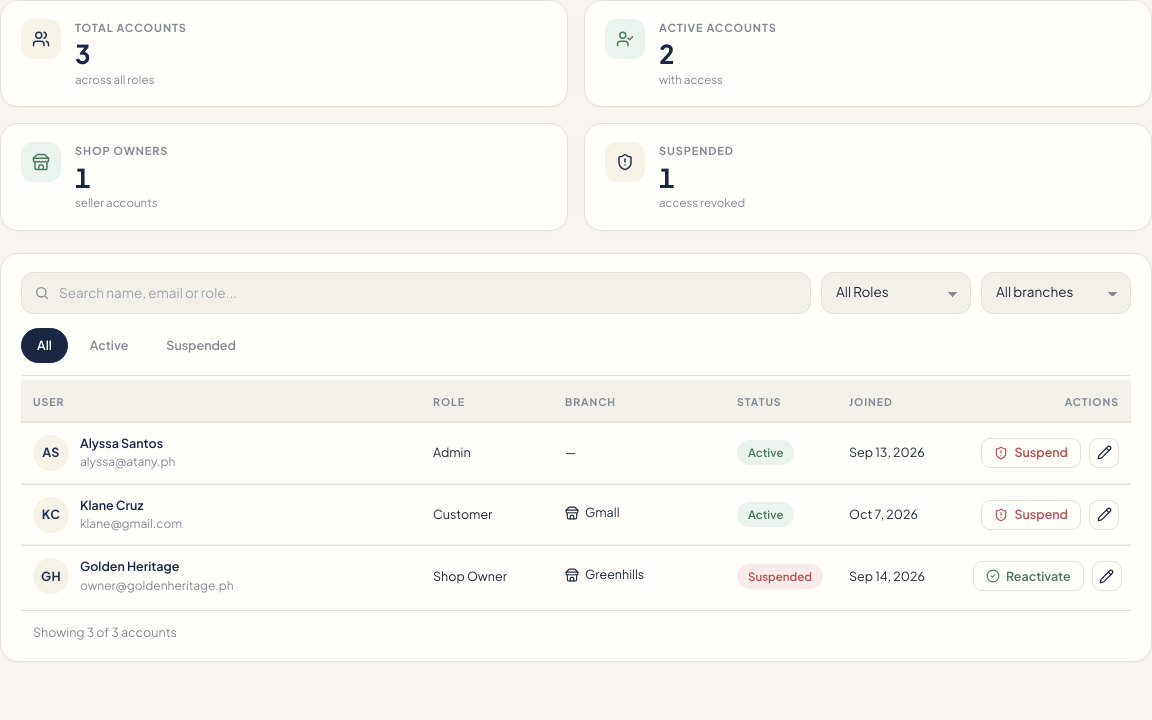
Test: search, role filter, branch filter and status tabs › empty filter result shows a no-match state, not fake rows
Expected: the text "Klane Cruz" is shown, [80,496,143,512]
Type "zzzzz" into the field labelled "Search name, email or role..." at x=416, y=293, box [21,272,811,314]
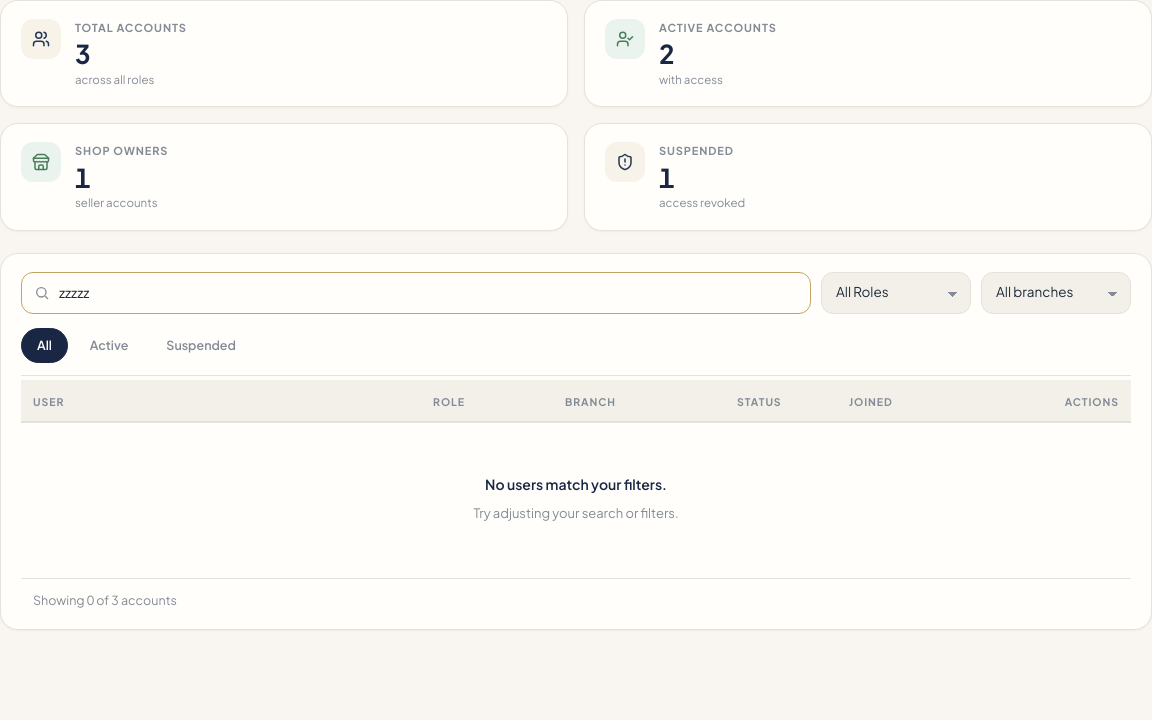
Now the text "No users match your filters." is shown, box [485,474,667,495]
